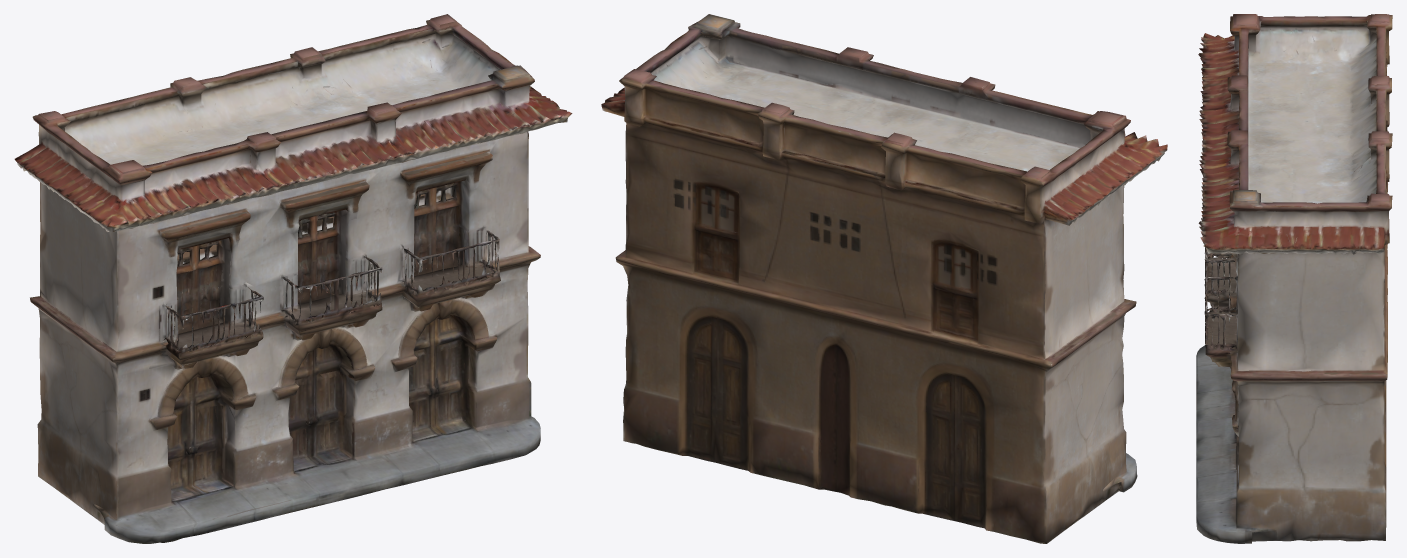
The model's file is casa5.fbx.
3 renders of one model, left to right at view 1: azimuth 30°, elevation 25°; view 2: azimuth 150°, elevation 25°; view 3: azimuth 270°, elevation 25°, orthographic. The views are drawn at different scales.
Visible parts, largest first — view 1: Mesh1.0; view 2: Mesh1.0; view 3: Mesh1.0.
Boxes of the visible parts, x1=… form: Mesh1.0: x1=14, y1=14, x2=572, y2=543; Mesh1.0: x1=601, y1=14, x2=1167, y2=543; Mesh1.0: x1=1196, y1=14, x2=1392, y2=543.
Bounding box in the file's own units: 192 × 142 × 74.48.
Materials: 1 (1 with a texture image).
